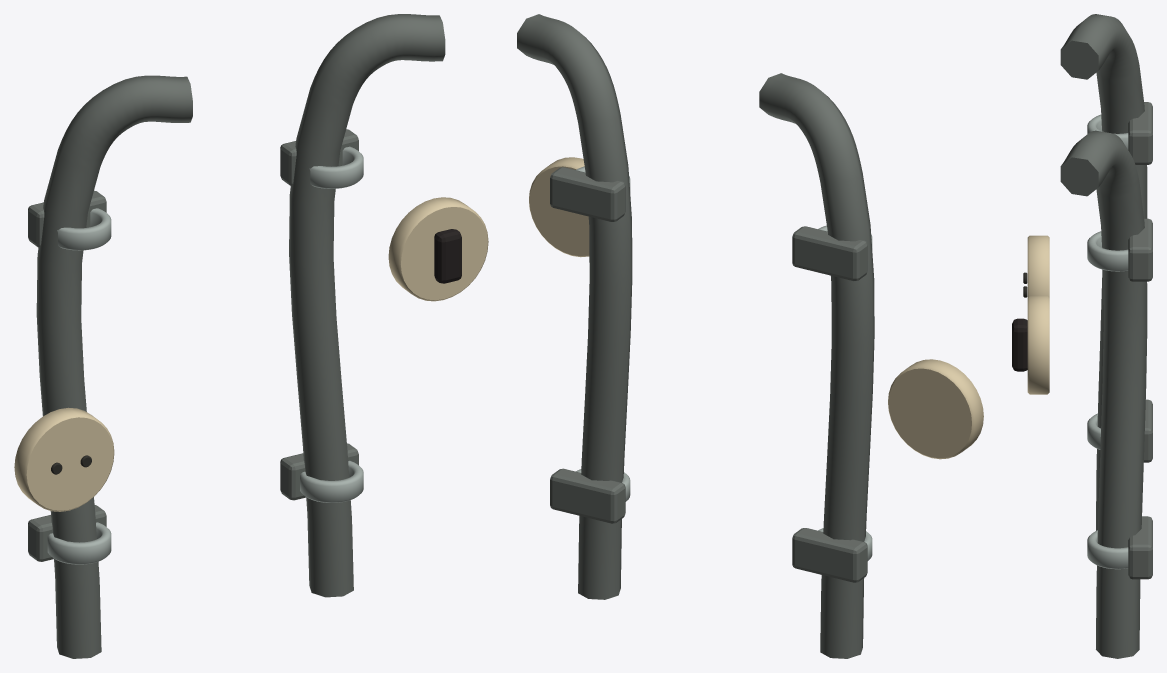
The model's file is WallPipeAndOutletKit.fbx.
3 views of the same model, side by side, from view 1: azimuth 30°, elevation 25°; view 2: azimuth 150°, elevation 25°; view 3: azimuth 270°, elevation 25° (orthographic). The views are drawn at different scales.
Parts seen in each view (by area): view 1: Steel line.001, Steel line, Outlet cover, Switch cover, Pipe clamp, Pipe clamp.002, Pipe clamp.003, Pipe clamp.001, Bakelite switch, Wall bracket.002, Wall bracket, Wall bracket.001 (+1 smaller); view 2: Steel line, Steel line.001, Outlet cover, Switch cover, Wall bracket.002, Wall bracket, Wall bracket.001, Wall bracket.003; view 3: Steel line.001, Steel line, Switch cover, Outlet cover, Wall bracket.002, Wall bracket.003, Wall bracket.001, Pipe clamp.003, Pipe clamp.002, Bakelite switch, Wall bracket, Pipe clamp (+1 smaller).
Part boxes in pixels (bbox=[...]): Steel line.001: bbox=[289, 14, 445, 597]; Steel line: bbox=[36, 75, 192, 658]; Outlet cover: bbox=[14, 407, 114, 511]; Switch cover: bbox=[388, 197, 488, 301]; Pipe clamp: bbox=[47, 522, 111, 564]; Pipe clamp.002: bbox=[300, 460, 363, 502]; Pipe clamp.003: bbox=[309, 146, 363, 188]; Pipe clamp.001: bbox=[57, 208, 111, 250]; Bakelite switch: bbox=[434, 229, 461, 283]; Wall bracket.002: bbox=[280, 443, 358, 500]; Wall bracket: bbox=[28, 505, 106, 561]; Wall bracket.001: bbox=[28, 190, 106, 247]; Steel line: bbox=[759, 73, 874, 658]; Steel line.001: bbox=[517, 14, 632, 599]; Outlet cover: bbox=[888, 359, 983, 459]; Switch cover: bbox=[529, 157, 589, 257]; Wall bracket.002: bbox=[550, 468, 625, 523]; Wall bracket: bbox=[792, 528, 867, 582]; Wall bracket.001: bbox=[792, 226, 867, 281]; Wall bracket.003: bbox=[550, 167, 625, 221]; Steel line.001: bbox=[1060, 130, 1147, 658]; Steel line: bbox=[1060, 14, 1147, 530]; Switch cover: bbox=[1027, 295, 1049, 394]; Outlet cover: bbox=[1027, 235, 1049, 296]; Wall bracket.002: bbox=[1128, 516, 1152, 579]; Wall bracket.003: bbox=[1128, 218, 1152, 281]; Wall bracket.001: bbox=[1128, 102, 1152, 164]; Pipe clamp.003: bbox=[1087, 231, 1128, 271]; Pipe clamp.002: bbox=[1087, 530, 1128, 569]; Bakelite switch: bbox=[1012, 318, 1027, 371]; Wall bracket: bbox=[1144, 399, 1152, 462]; Pipe clamp: bbox=[1087, 413, 1100, 449].
Bounding box in the file's own units: 0.534 × 0.6222 × 0.148.
